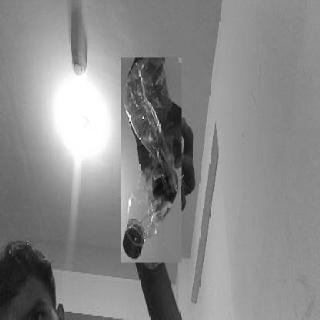plastic_bottles: (120, 58, 182, 262)
